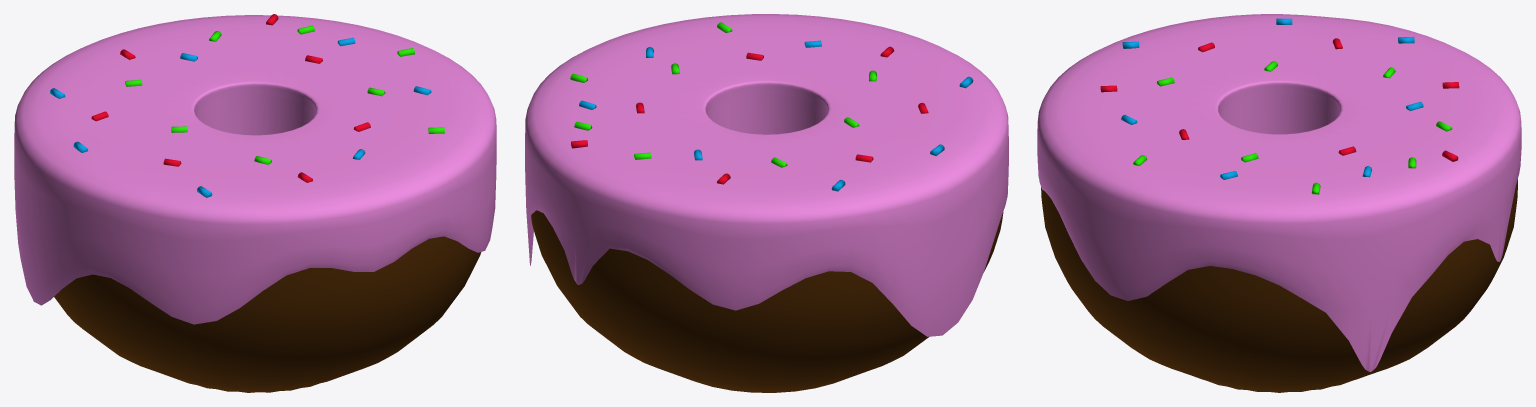
File: gateau.fbx
3 renders of one model, left to right at view 1: azimuth 30°, elevation 25°; view 2: azimuth 150°, elevation 25°; view 3: azimuth 270°, elevation 25°, orthographic.
Parts seen in each view (by area): view 1: TOP, CACA; view 2: TOP, CACA; view 3: TOP, CACA.
Boxes of the visible parts, left/top/right/bottom form: TOP: left=14, top=15, right=496, bottom=392; CACA: left=50, top=14, right=444, bottom=197; TOP: left=525, top=14, right=1008, bottom=392; CACA: left=570, top=22, right=973, bottom=191; TOP: left=1037, top=14, right=1521, bottom=392; CACA: left=1100, top=18, right=1459, bottom=194.
Bounding box in the file's own units: 202 × 117 × 202.
